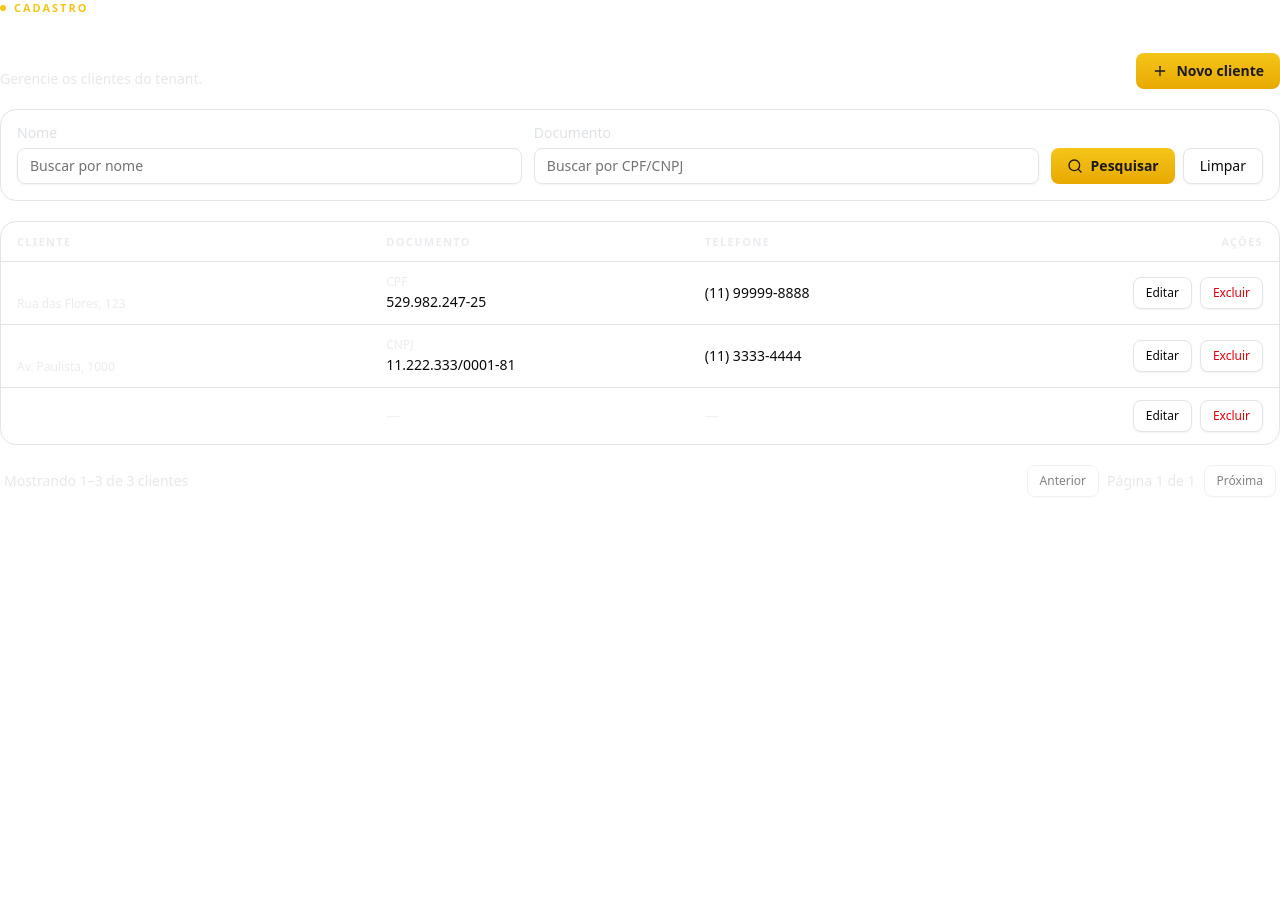
Test: CustomersScreen › valida nome e documento obrigatório quando há tipo selecionado
This screenshot has width=1280, height=900.
Click the button "Novo cliente" at (1208, 70), box [1136,52,1279,88]
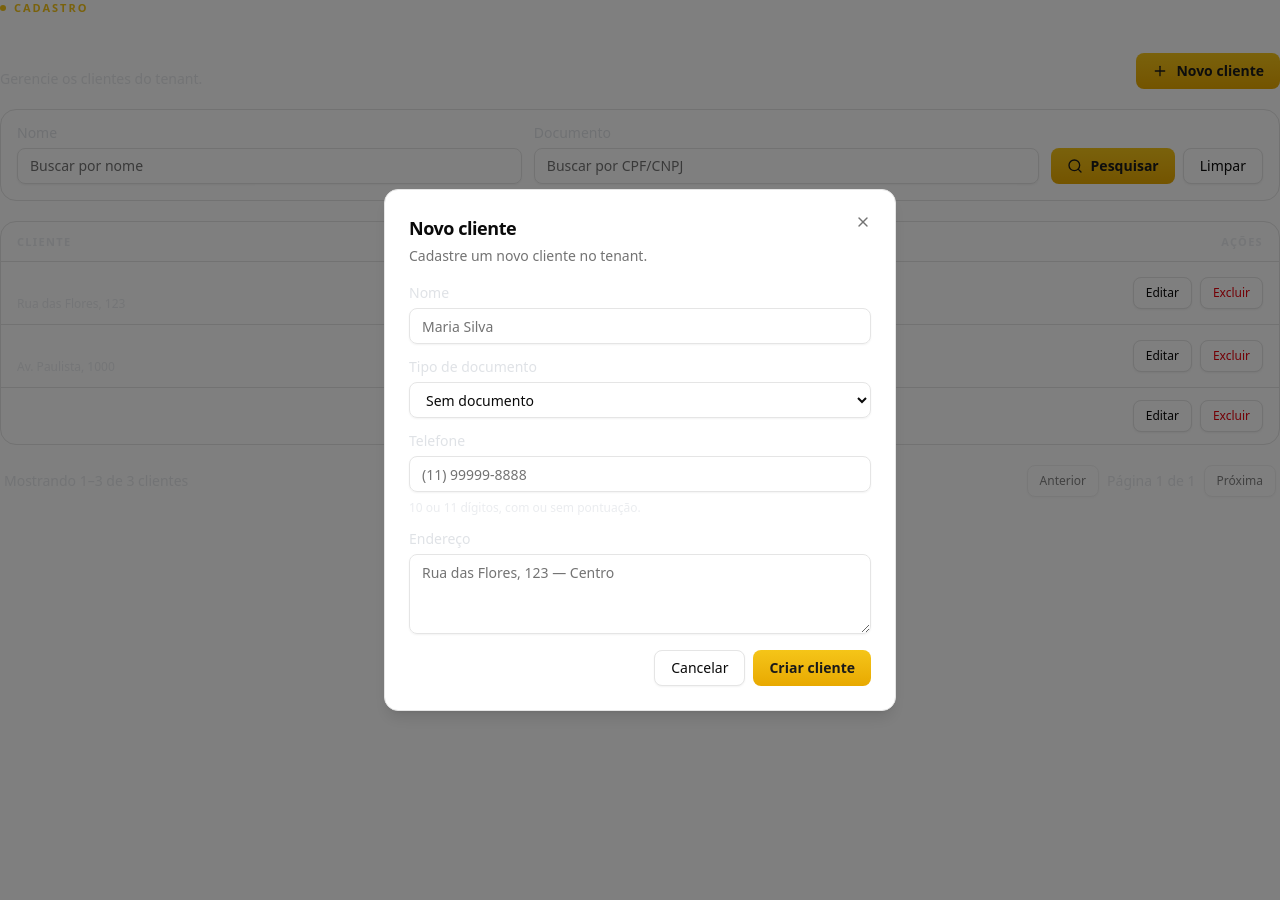
Click the button "Criar cliente" at (812, 668), box [753,650,871,686]
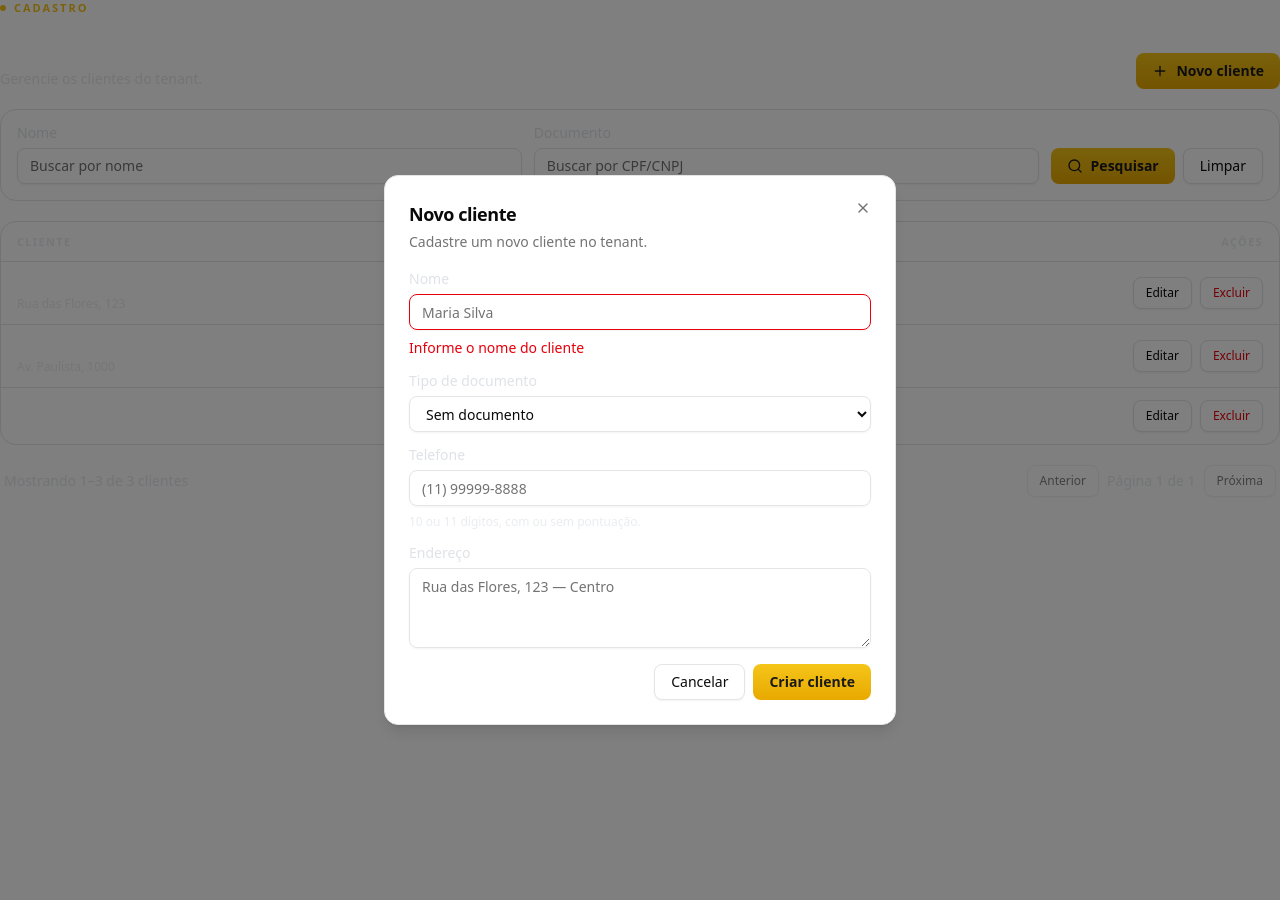
Check: the text "Informe o nome do cliente" is shown, box [409,338,584,357]
Type "Ana" into the field labelled "Nome" at (640, 312), box [409,294,871,330]
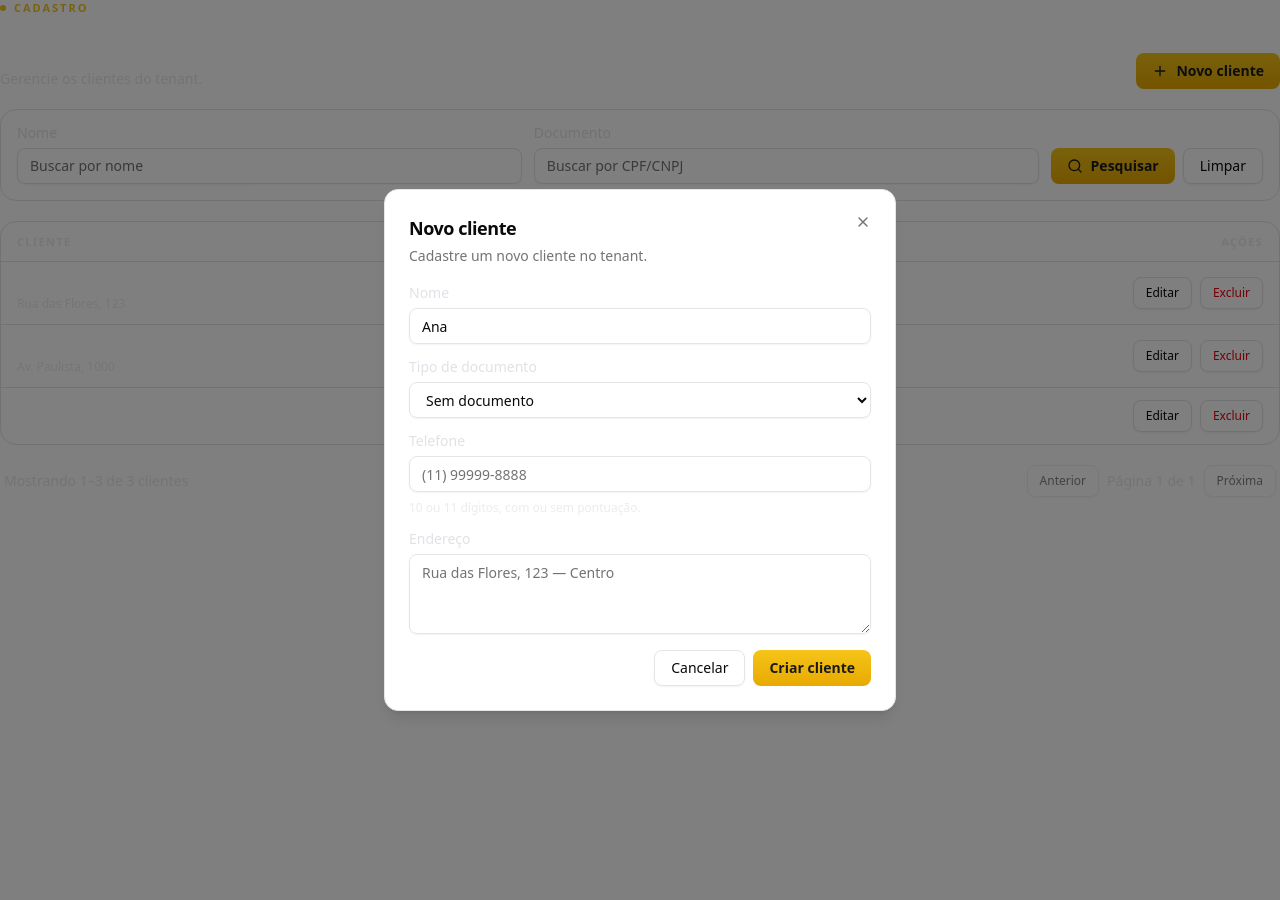
Select "CPF" in the dropdown labelled "Tipo de documento" at (640, 400), box [409,382,871,418]
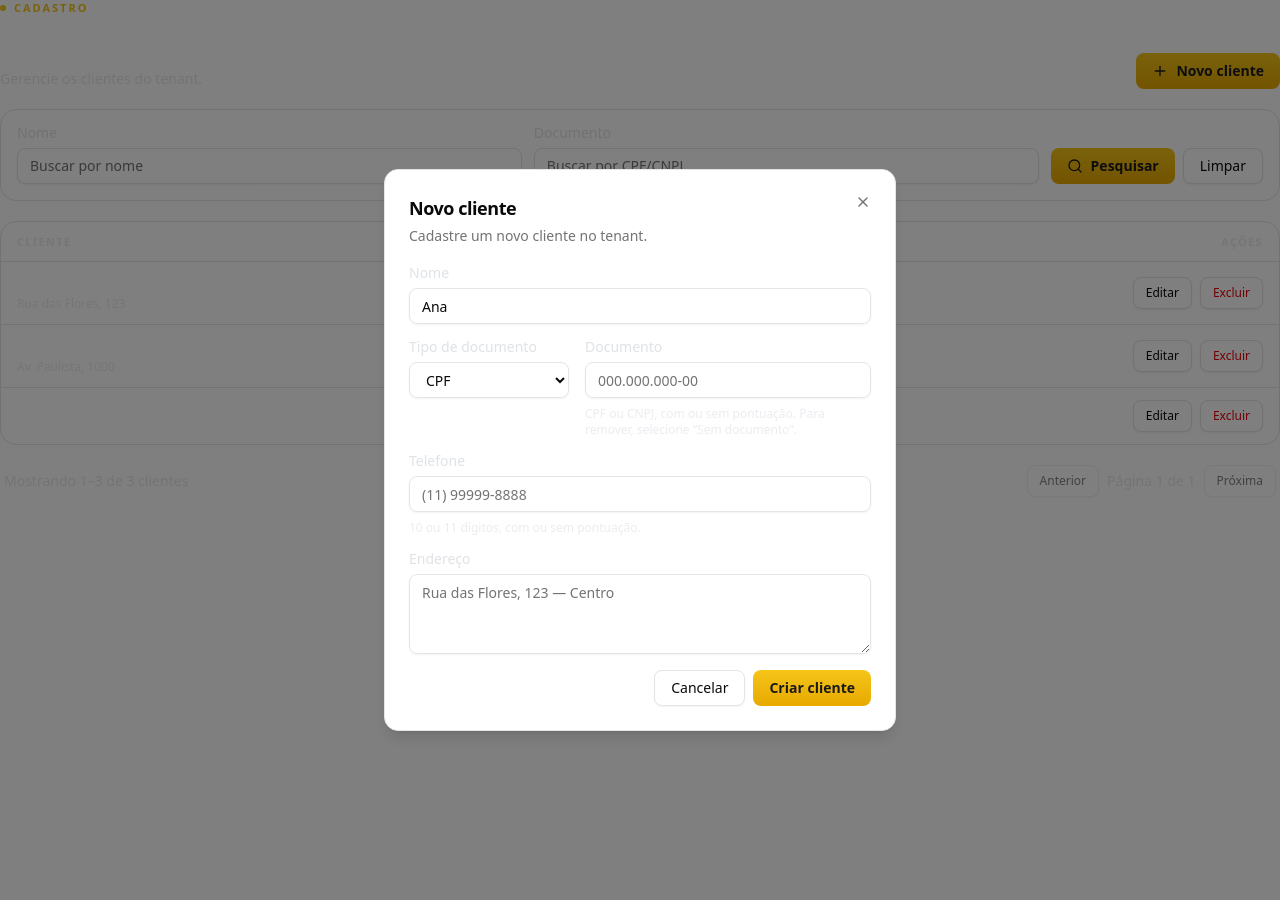
Click the button "Criar cliente" at (812, 688), box [753,670,871,706]
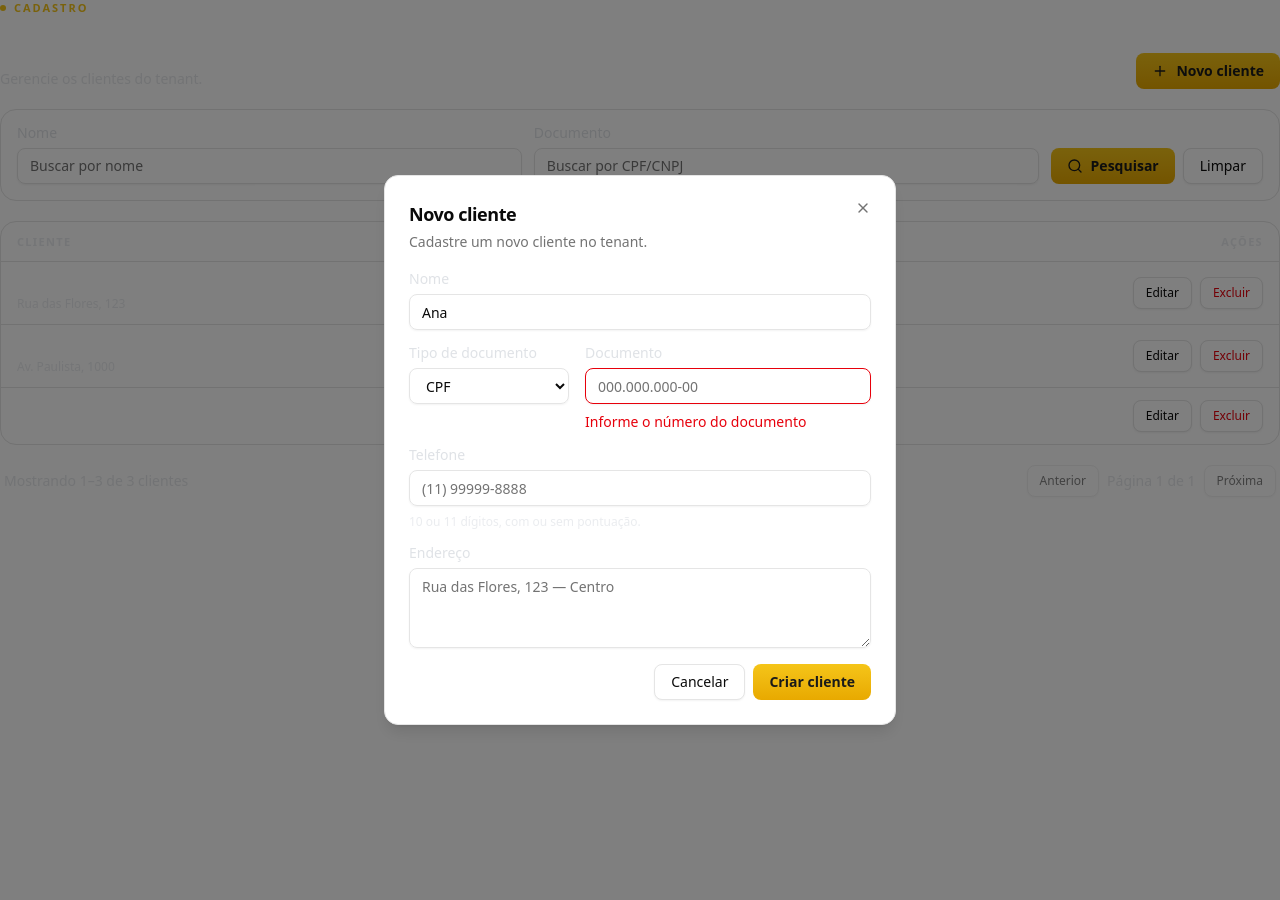
Check: the text "Informe o número do documento" is shown, box [585,412,806,431]
